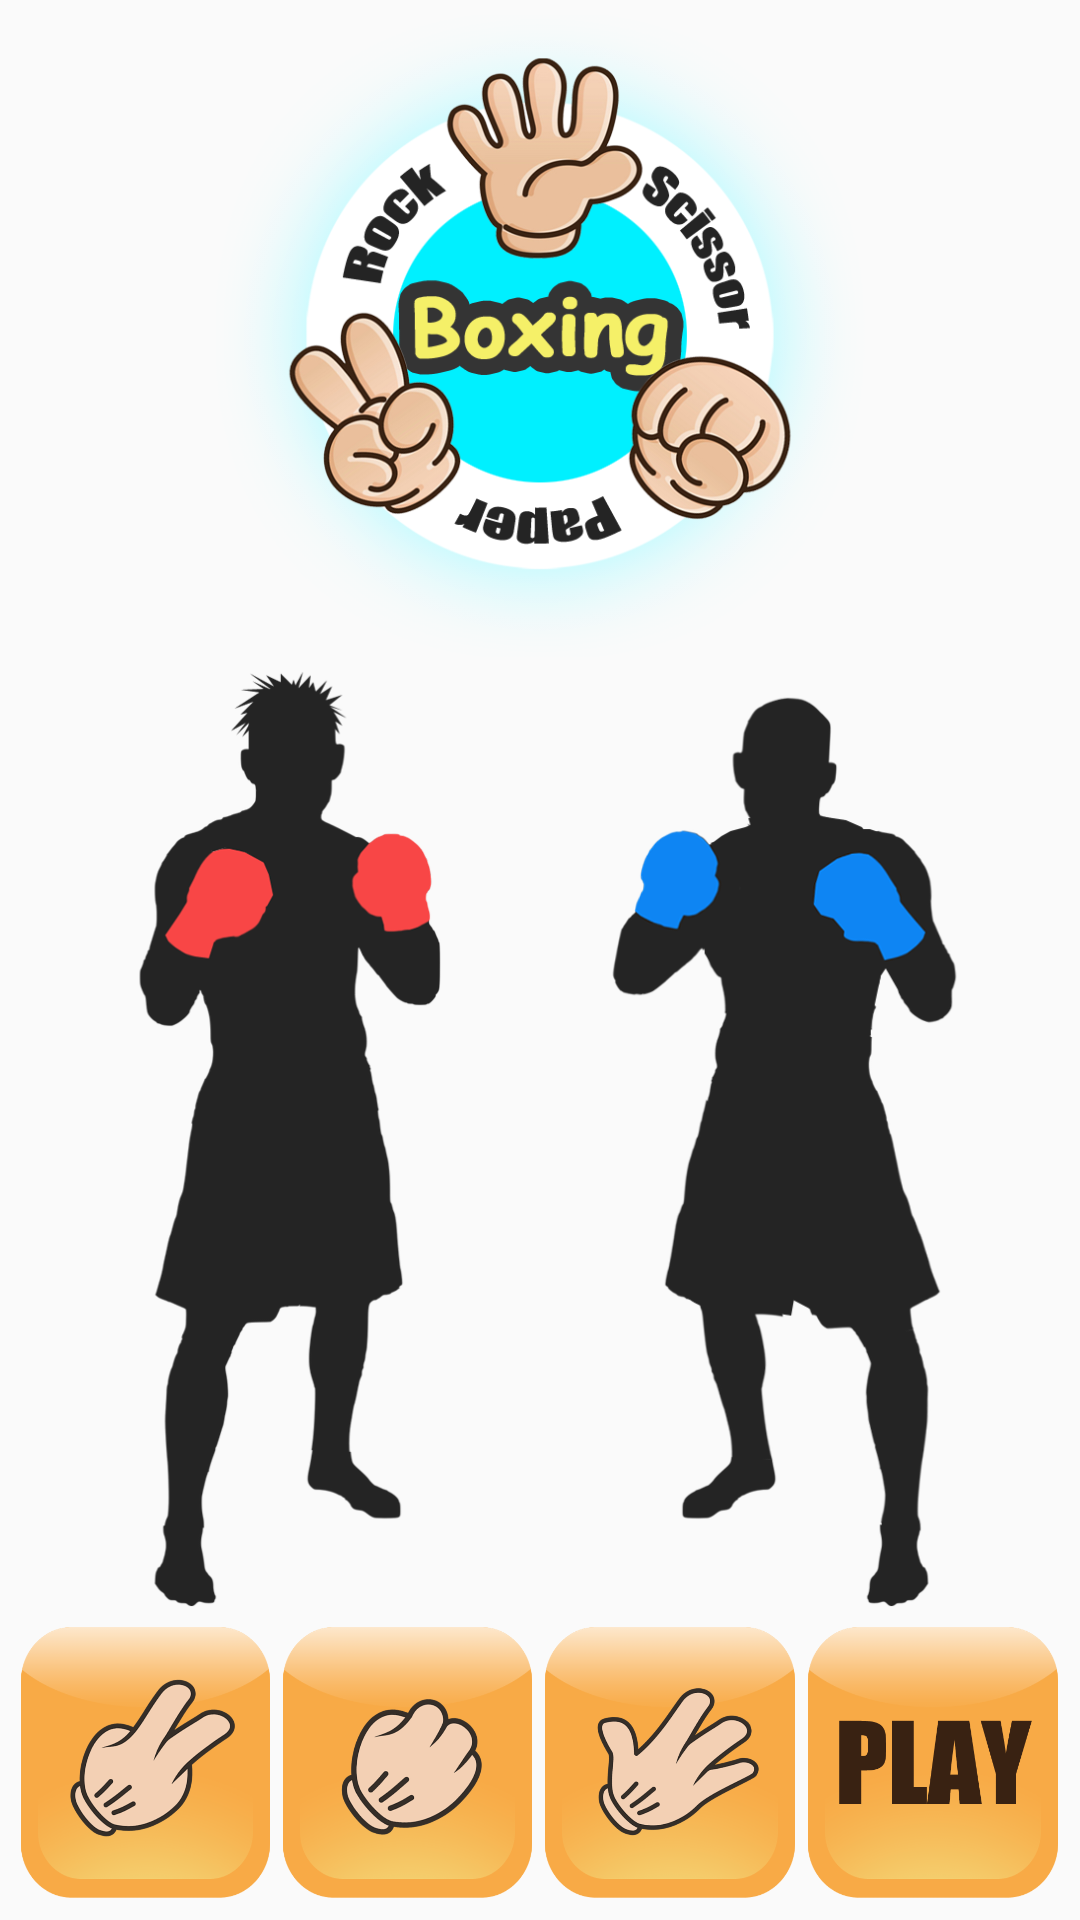

Locate icon controls on the screen. Image size 1080×1920, boxes as (x1, y1, x2, y2).
player paper: (545, 1627, 795, 1898)
player rock: (283, 1627, 532, 1898)
player scissor: (21, 1627, 270, 1898)
